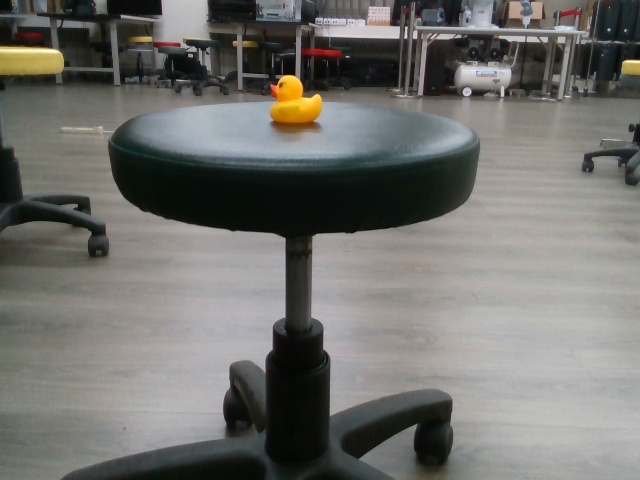duck: (263, 69, 325, 130)
